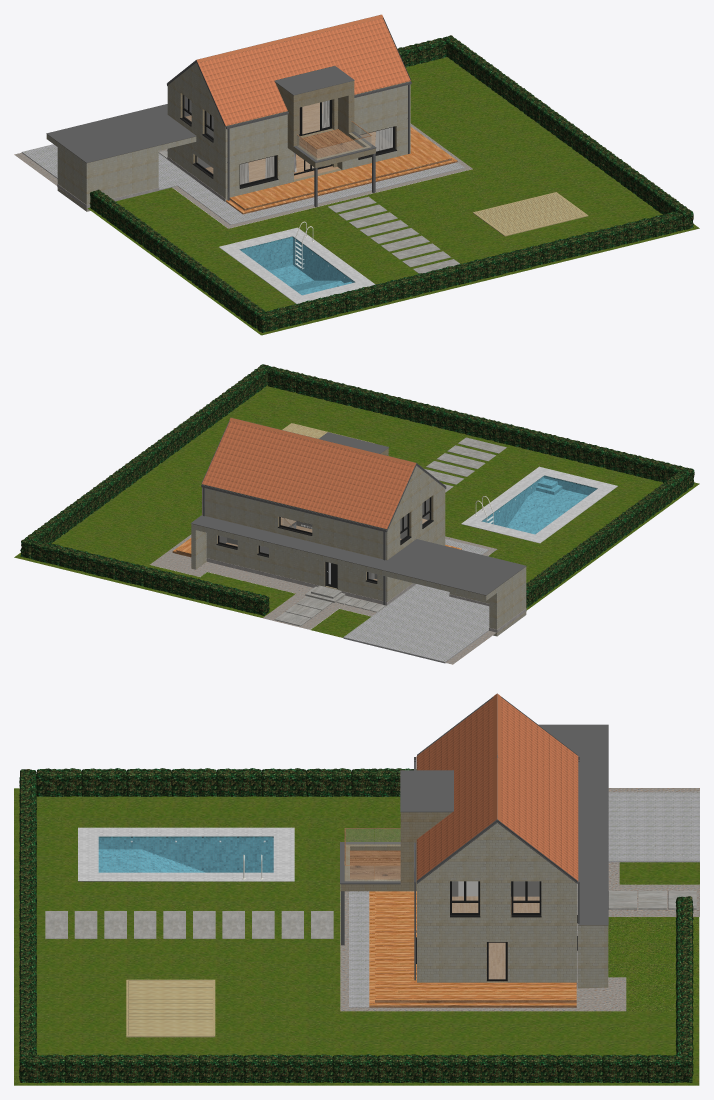
File: exterior.glb
The picture shows the model from 3 angles, top to bottom: view 1: azimuth 30°, elevation 25°; view 2: azimuth 150°, elevation 25°; view 3: azimuth 270°, elevation 25°; orthographic projection. The views are drawn at different scales.
Visible parts, largest first — view 1: floor, House, wall, Cube.022_Piece.001, Garden steps_Plate, pool body, water surface, pool edge tile, Cube.027, Bush_low.012, Bush_low.011, Bush_low.008 (+20 smaller); view 2: floor, wall, House, Cube.022_Piece.001, pool body, water surface, pool edge tile, Cube.027, Bush_low.010, Bush_low.011, Bush_low.008, Bush_low.009 (+17 smaller); view 3: floor, House, wall, Garden steps_Plate, Cube.022_Piece.001, pool body, water surface, pool edge tile, Bush_low.003, Bush_low.018, Bush_low.017, Bush_low.007 (+32 smaller).
Boxes of the visible parts, bbox=[...] form: floor: bbox=[14, 57, 699, 335]; House: bbox=[180, 18, 410, 182]; wall: bbox=[46, 62, 410, 211]; Cube.022_Piece.001: bbox=[46, 104, 196, 162]; Garden steps_Plate: bbox=[226, 127, 457, 213]; pool body: bbox=[239, 236, 354, 295]; water surface: bbox=[241, 238, 353, 294]; pool edge tile: bbox=[219, 227, 375, 303]; Cube.027: bbox=[167, 14, 411, 207]; Bush_low.012: bbox=[256, 293, 346, 332]; Bush_low.011: bbox=[342, 273, 430, 312]; Bush_low.008: bbox=[594, 211, 683, 250]; floor: bbox=[14, 385, 699, 664]; wall: bbox=[191, 466, 526, 636]; House: bbox=[202, 421, 433, 589]; Cube.022_Piece.001: bbox=[190, 515, 526, 595]; pool body: bbox=[482, 475, 597, 552]; water surface: bbox=[483, 477, 595, 533]; pool edge tile: bbox=[461, 466, 617, 543]; Cube.027: bbox=[201, 417, 446, 605]; Bush_low.010: bbox=[436, 407, 524, 447]; Bush_low.011: bbox=[520, 428, 609, 467]; Bush_low.008: bbox=[267, 366, 356, 406]; Bush_low.009: bbox=[351, 387, 440, 426]; floor: bbox=[14, 788, 699, 1085]; House: bbox=[340, 697, 578, 982]; wall: bbox=[417, 823, 608, 988]; Garden steps_Plate: bbox=[369, 891, 576, 1005]; Cube.022_Piece.001: bbox=[538, 724, 608, 925]; pool body: bbox=[98, 836, 273, 872]; water surface: bbox=[99, 838, 273, 872]; pool edge tile: bbox=[78, 827, 294, 881]; Bush_low.003: bbox=[557, 1054, 693, 1082]; Bush_low.018: bbox=[36, 768, 172, 796]; Bush_low.017: bbox=[171, 768, 307, 796]; Bush_low.007: bbox=[19, 1054, 155, 1082].
Size of the model in its own units: 35.77 by 11.72 by 34.84.
Materials: 38 (26 with a texture image).
